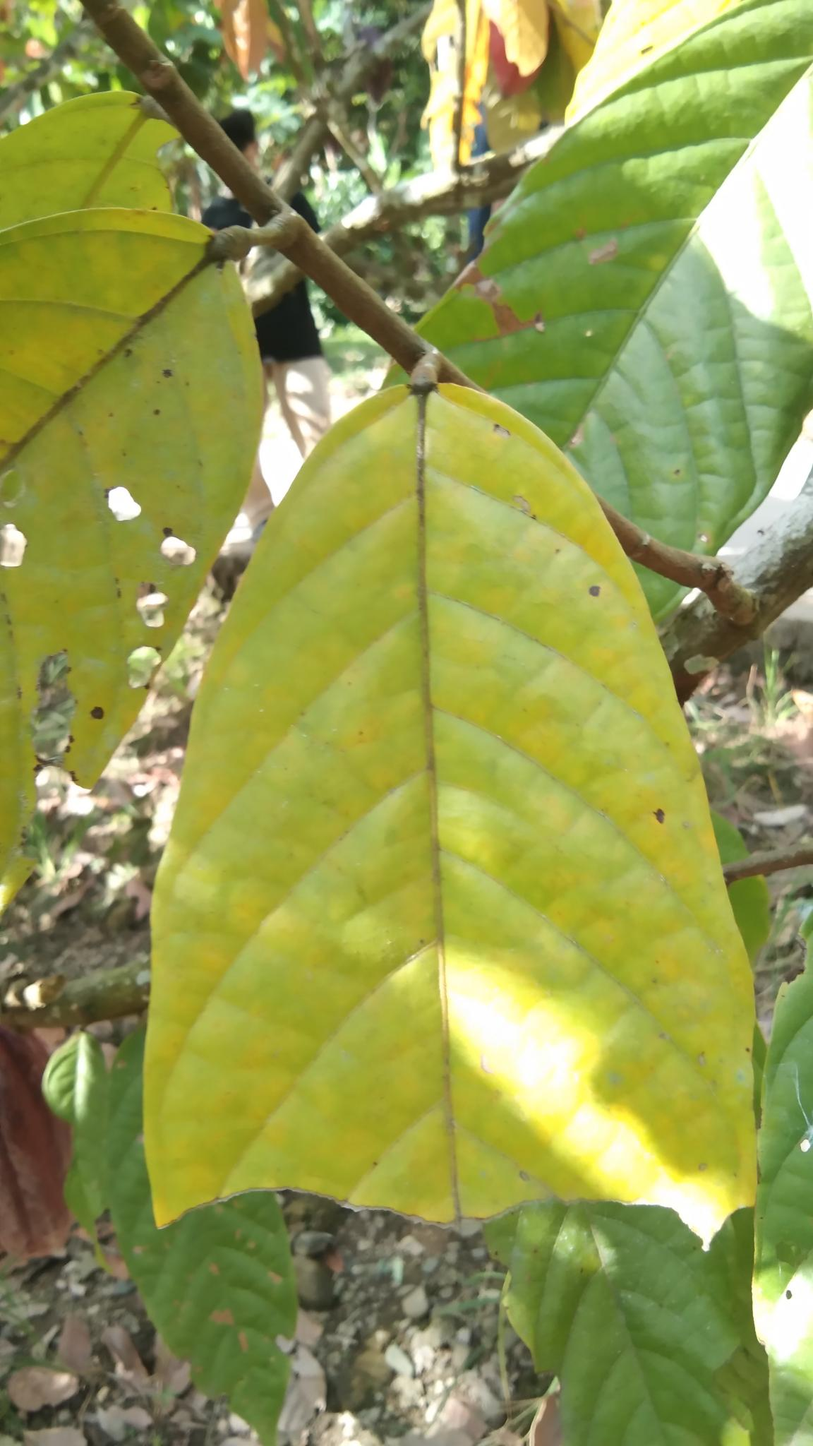Fosforo: (139, 382, 747, 1224)
